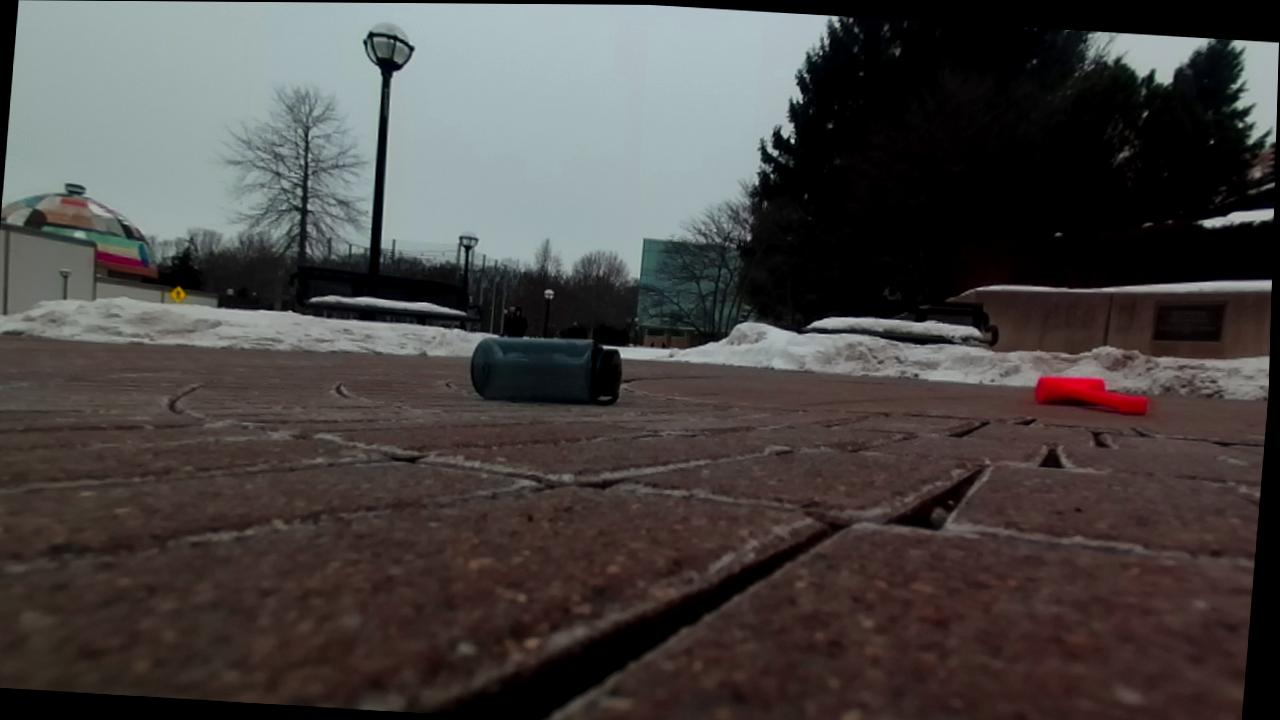bottle: (470, 336, 621, 404)
mallet: (1035, 376, 1146, 412)
